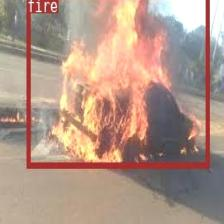fire: (26, 0, 209, 168)
